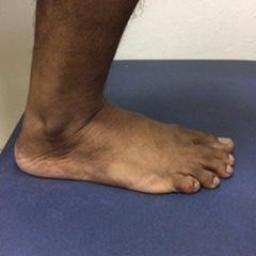Lateral View -Right Foot-: (8, 62, 248, 207)
